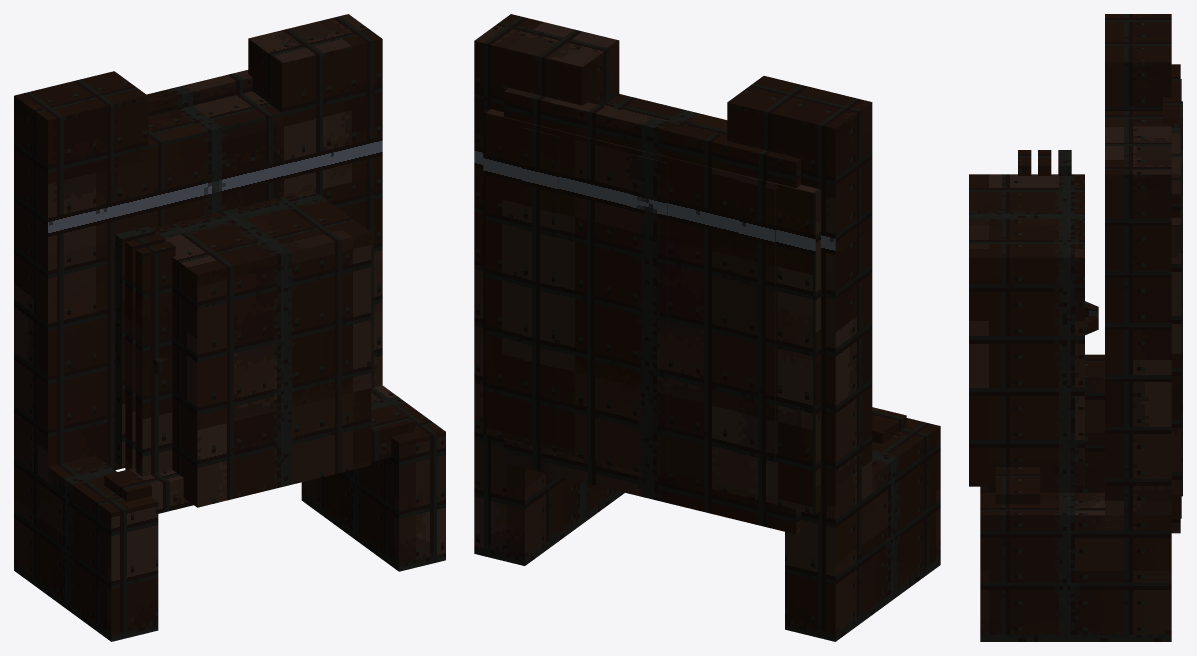
The model's file is enemy_role_bulwark.glb.
The picture shows the model from 3 angles, left to right: view 1: azimuth 30°, elevation 25°; view 2: azimuth 150°, elevation 25°; view 3: azimuth 270°, elevation 25°; orthographic projection. The views are drawn at different scales.
Visible parts, largest first — view 1: enemy_role_bulwark; view 2: enemy_role_bulwark; view 3: enemy_role_bulwark.
Part boxes in pixels (box(x1,y1,x2,y2)): enemy_role_bulwark: box(14, 14, 445, 641); enemy_role_bulwark: box(474, 14, 940, 641); enemy_role_bulwark: box(969, 14, 1182, 641).
Size of the model in its own units: 1.45 by 1.97 by 0.816.
4 materials, 4 textured.
